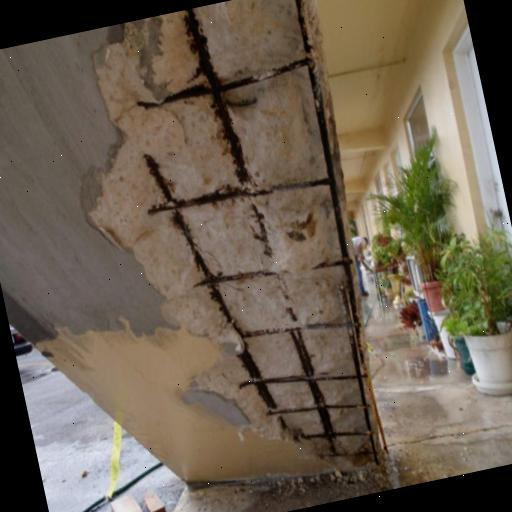spalling: (96, 0, 381, 471)
